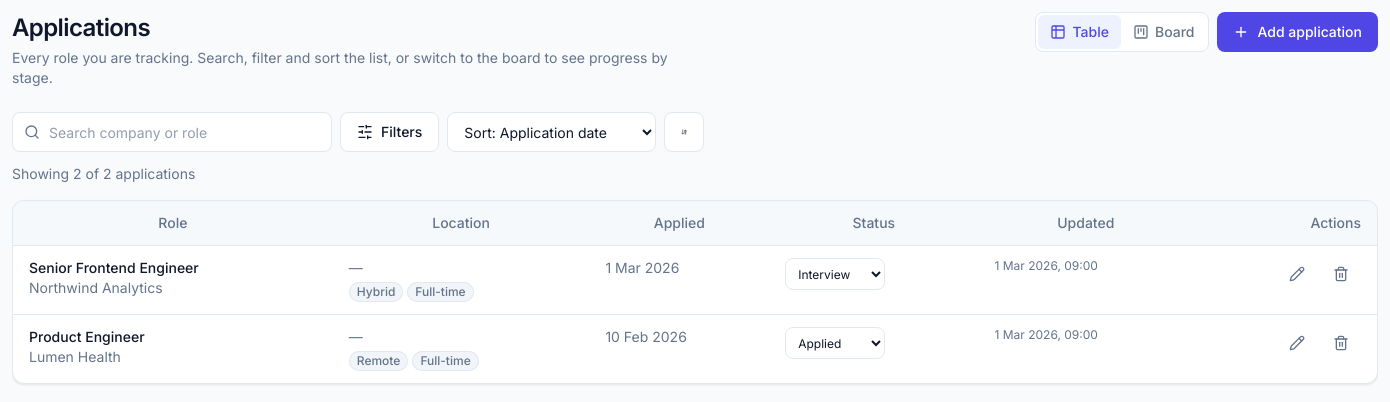
Test: ApplicationsPage — search and filters › narrows the list by company name
This screenshot has width=1390, height=402.
Type "lumen" into the search field named "search by company or role" at (172, 132), box x1=12 y1=112 x2=332 y2=152
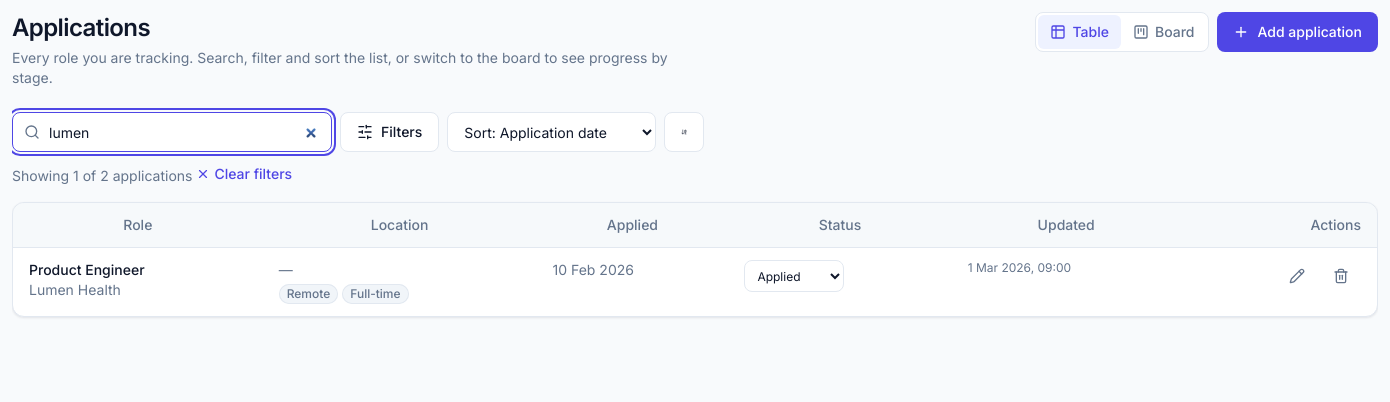
Expected: the text "Showing 1 of 2 applications Clear filters" is shown, x1=12 y1=164 x2=292 y2=184
Expected: the link "Senior Frontend Engineer" is gone
